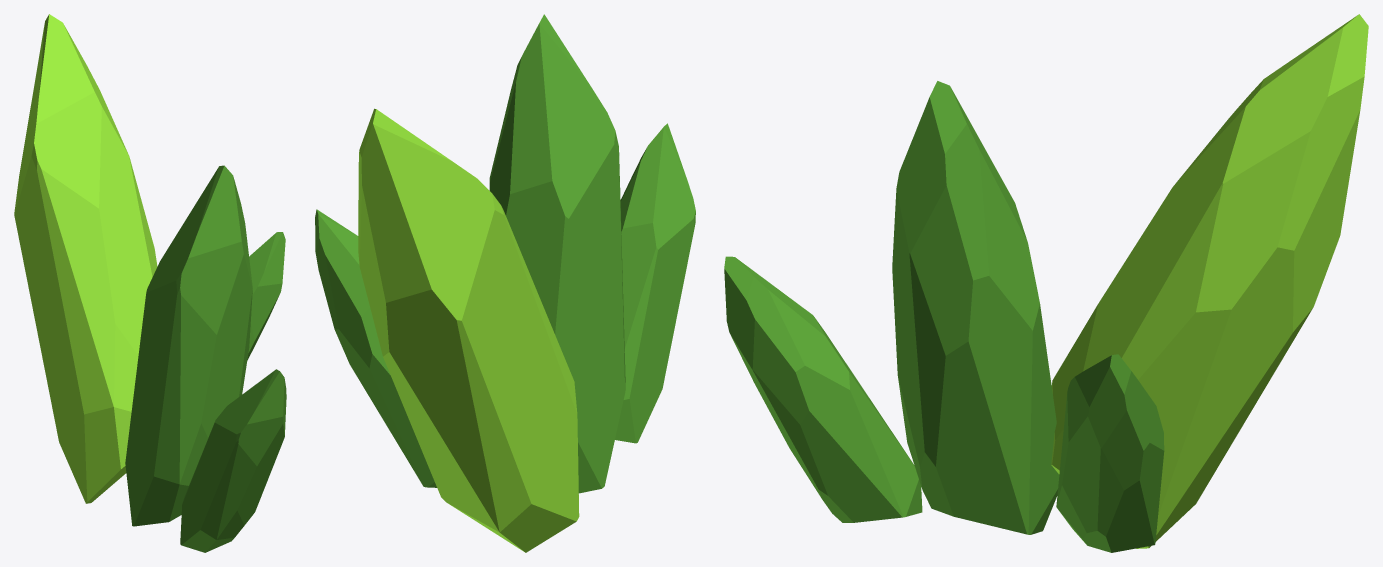
Rendered from Diamond.fbx.
The picture shows the model from 3 angles, left to right: view 1: azimuth 30°, elevation 25°; view 2: azimuth 150°, elevation 25°; view 3: azimuth 270°, elevation 25°; orthographic projection. The views are drawn at different scales.
Parts seen in each view (by area): view 1: Diamond3, Diamond2, Diamond4, Diamond5; view 2: Diamond3, Diamond2, Diamond4, Diamond5; view 3: Diamond3, Diamond2, Diamond4, Diamond5.
Part boxes in pixels (x1,y1,x2,y2): Diamond3: (14, 14, 157, 503); Diamond2: (125, 165, 252, 526); Diamond4: (180, 369, 286, 552); Diamond5: (247, 232, 285, 360); Diamond3: (358, 108, 579, 552); Diamond2: (489, 14, 625, 493); Diamond4: (615, 123, 695, 443); Diamond5: (315, 209, 436, 487); Diamond3: (1051, 14, 1368, 548); Diamond2: (892, 81, 1059, 534); Diamond4: (724, 256, 922, 522); Diamond5: (1056, 354, 1164, 552).
Bounding box in the file's own units: 553 × 1055 × 1097.
